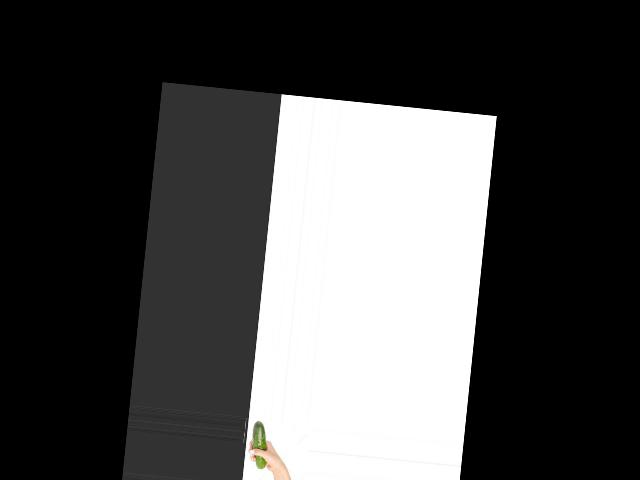cucumber: (248, 420, 270, 469)
